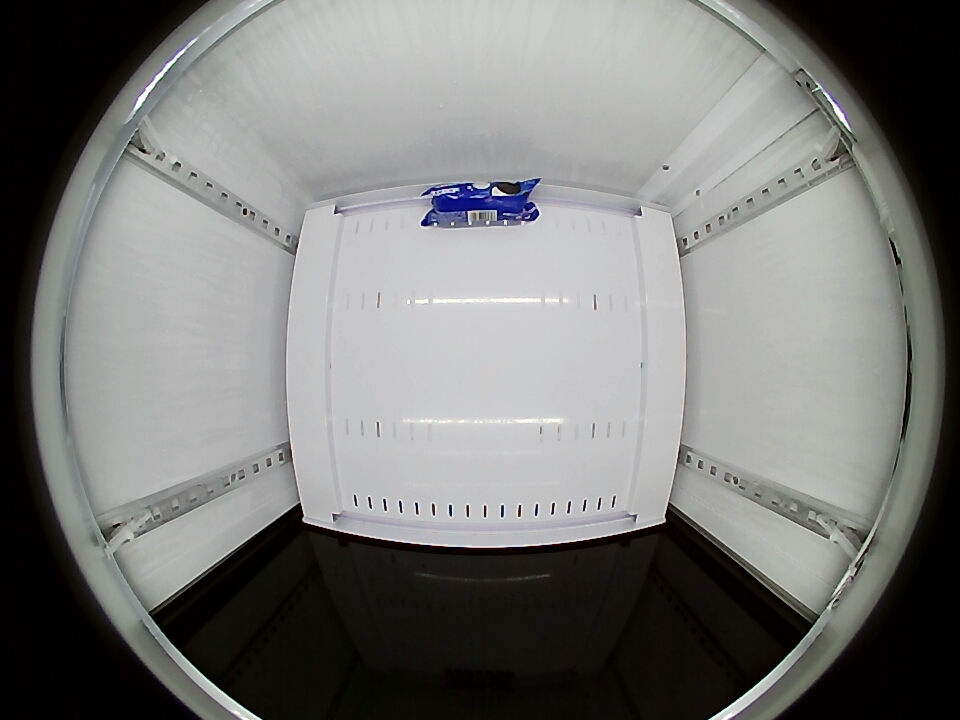aoliao: (424, 178, 539, 227)
